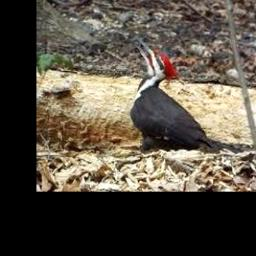Woodpecker: (129, 39, 244, 153)
